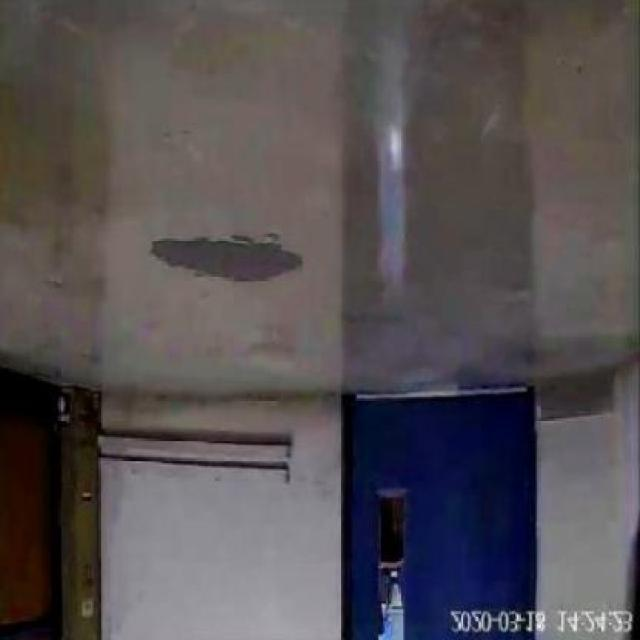spillage: (146, 235, 304, 284)
